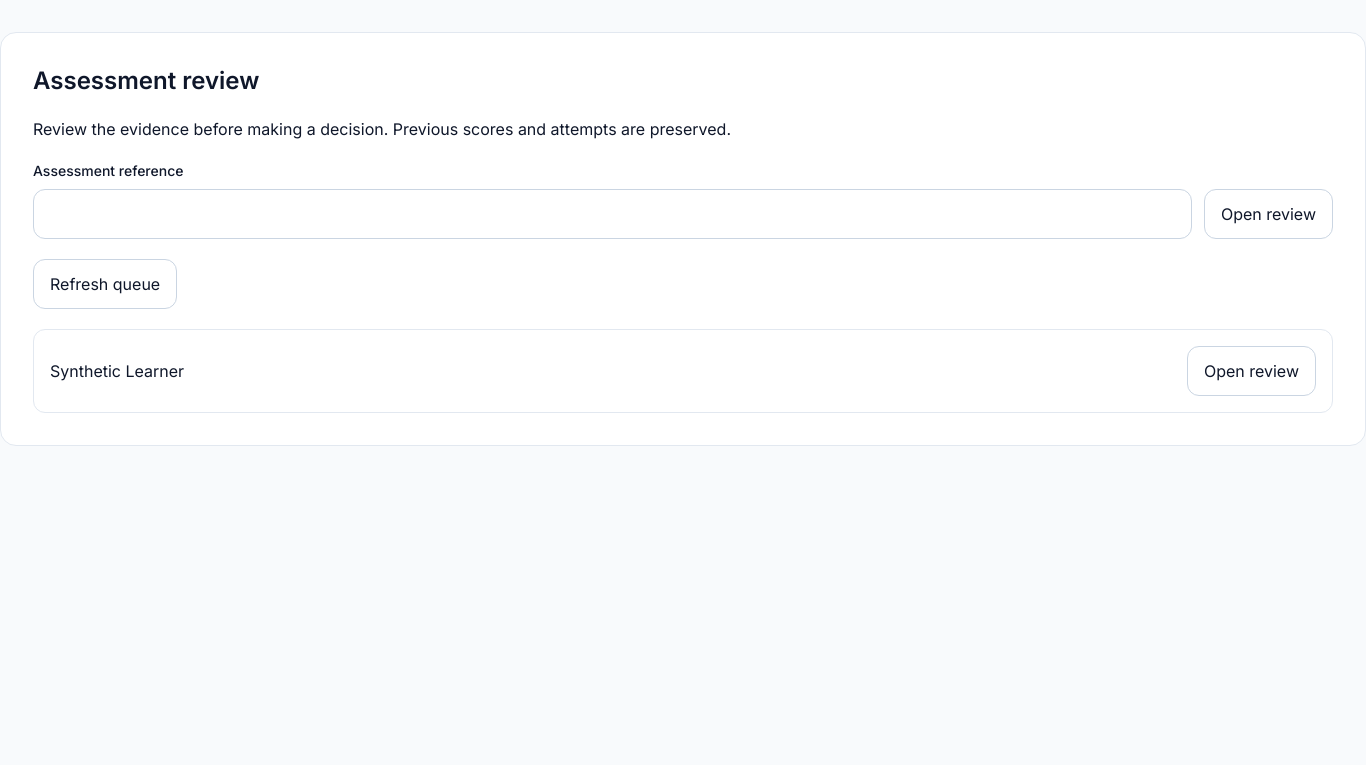
Scenario: renders an Admin review with bounded evidence and an audited decision
The image size is (1366, 765).
Check: the text "Synthetic Learner" is shown, box [50,359,184,383]
Click the button "Open review" in the row of "Synthetic Learner" at (1251, 371), box [1187,346,1316,396]
(page scrolled)
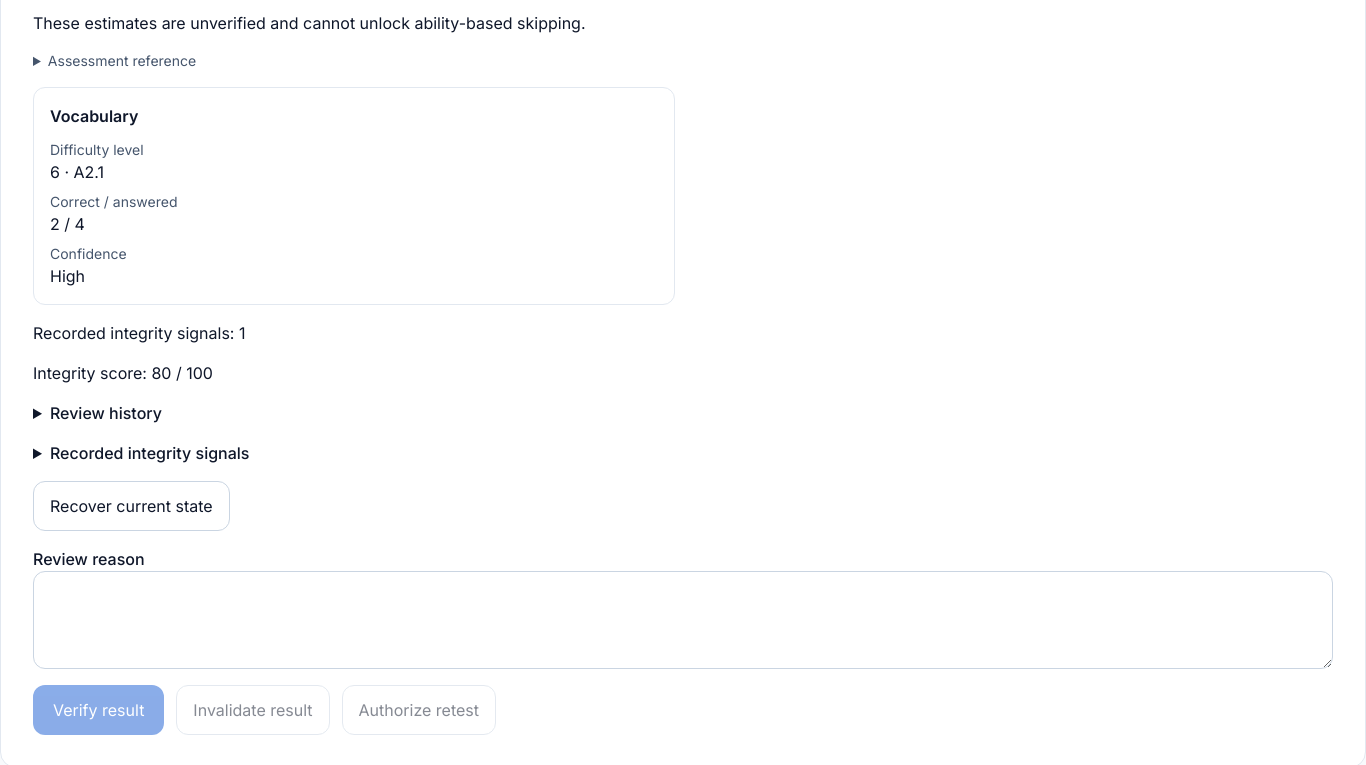
Type "Reviewed the synthetic evidence." into the text box labelled "Review reason" at (683, 620), box [33,571,1333,669]
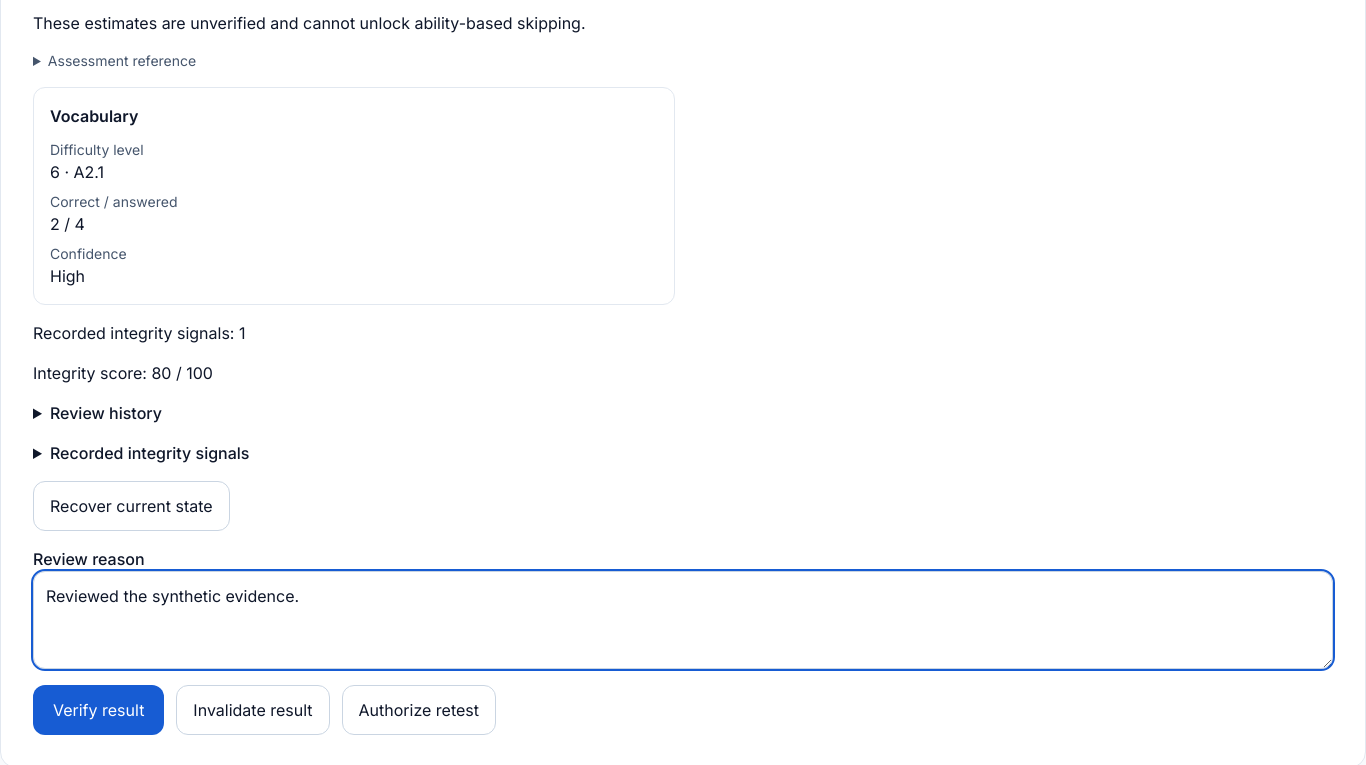
Click the button "Verify result" at (99, 710), box [33,685,164,735]
(page scrolled)
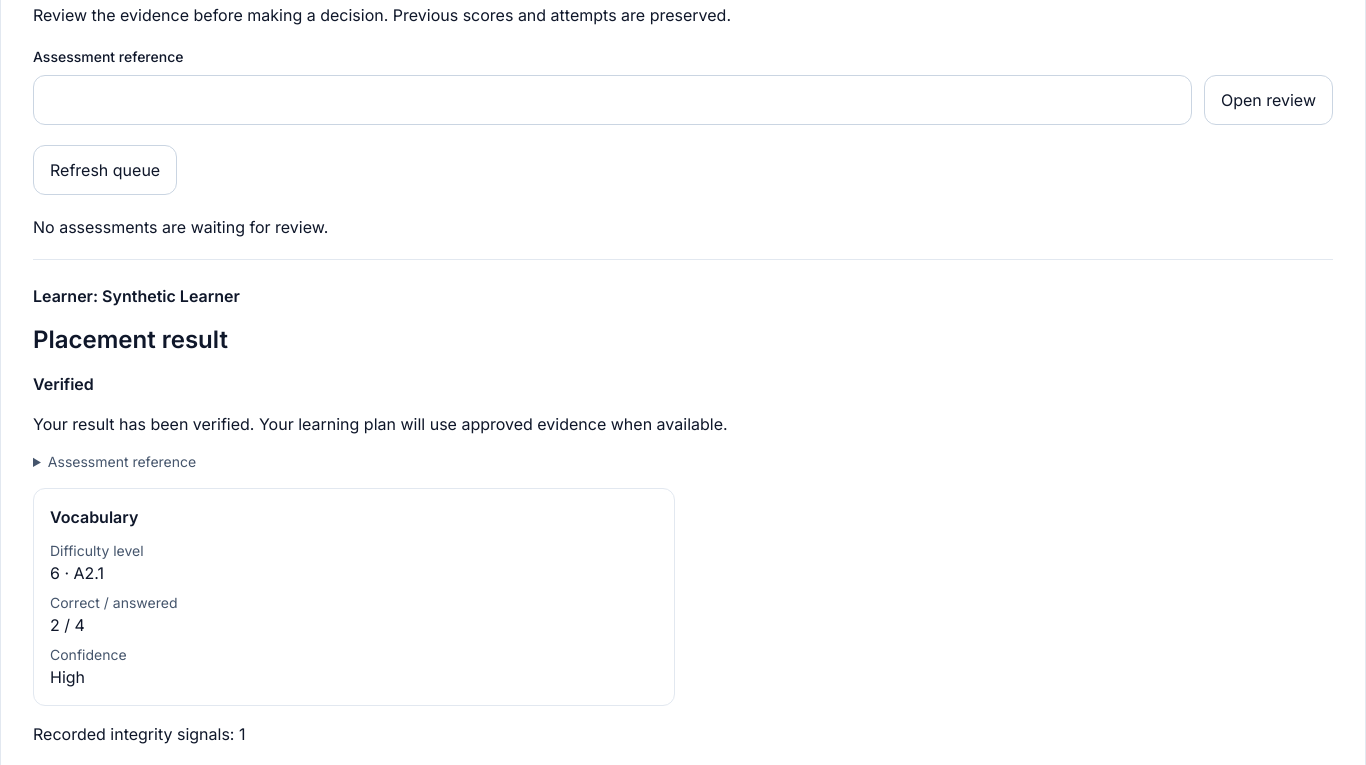
Check: the text "Verified" is shown, box [33,374,94,394]
